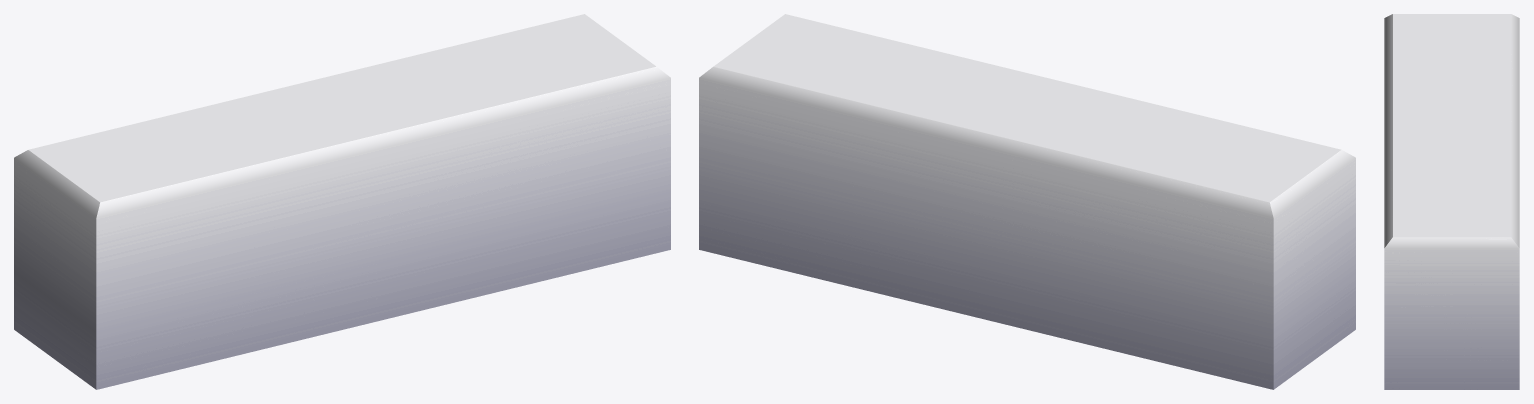
Rendered from brick-kit--none-hq-brick-1x4.glb.
3 renders of one model, left to right at view 1: azimuth 30°, elevation 25°; view 2: azimuth 150°, elevation 25°; view 3: azimuth 270°, elevation 25°, orthographic. The views are drawn at different scales.
Parts seen in each view (by area): view 1: none-hq-brick-1x4; view 2: none-hq-brick-1x4; view 3: none-hq-brick-1x4.
Boxes of the visible parts, <box> form: none-hq-brick-1x4: <box>14,14,670,389</box>; none-hq-brick-1x4: <box>699,14,1355,389</box>; none-hq-brick-1x4: <box>1384,14,1519,389</box>.
Bounding box in the file's own units: 0.318 × 0.096 × 0.079.
1 material, 1 textured.
